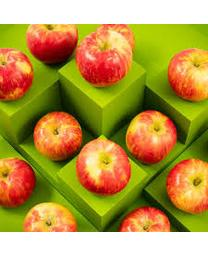apple: (76, 139, 131, 197), (76, 30, 132, 85), (126, 110, 178, 165), (32, 111, 81, 162), (166, 159, 207, 214), (25, 23, 79, 64), (167, 48, 207, 101), (0, 157, 36, 207), (0, 47, 33, 100), (23, 204, 78, 231), (116, 205, 171, 232)
